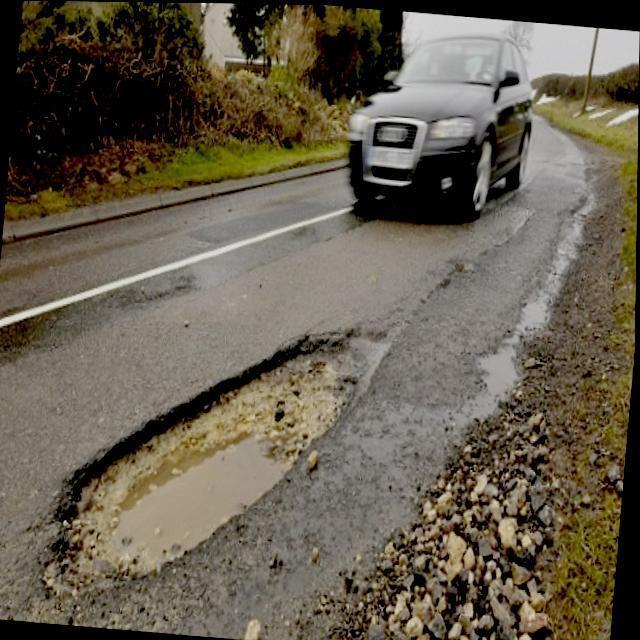Pothole: (55, 329, 390, 591)
